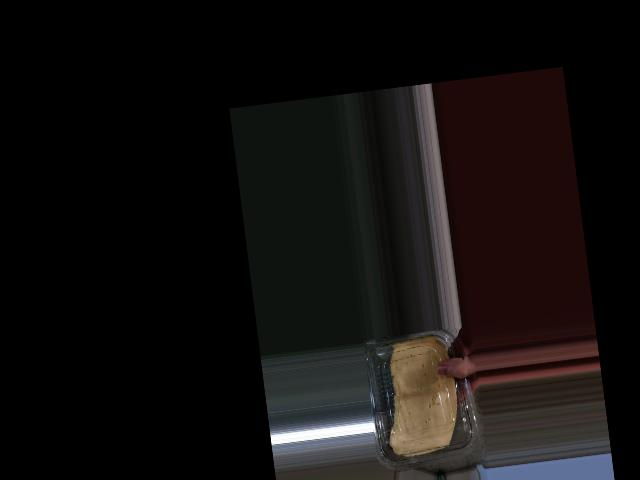cheese: (361, 326, 471, 473)
